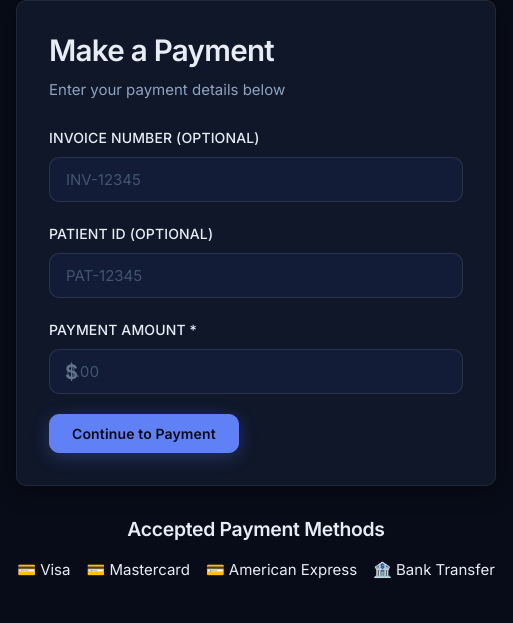
it: PaymentPage › shows validation error for invalid amount
// Type a value to pass HTML5 required/min constraints, then custom validation catches it
Type "1.00" into the number field labelled "Payment Amount *" at (256,372), box [49, 349, 463, 394]
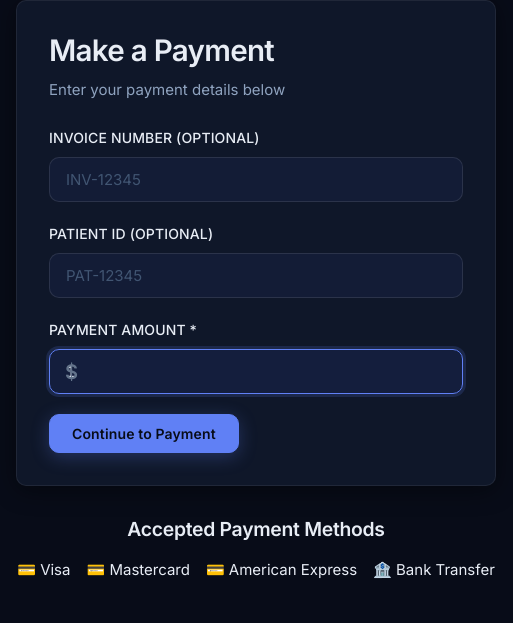
Click the button "Continue to Payment" at (144,434), box [49, 414, 239, 453]
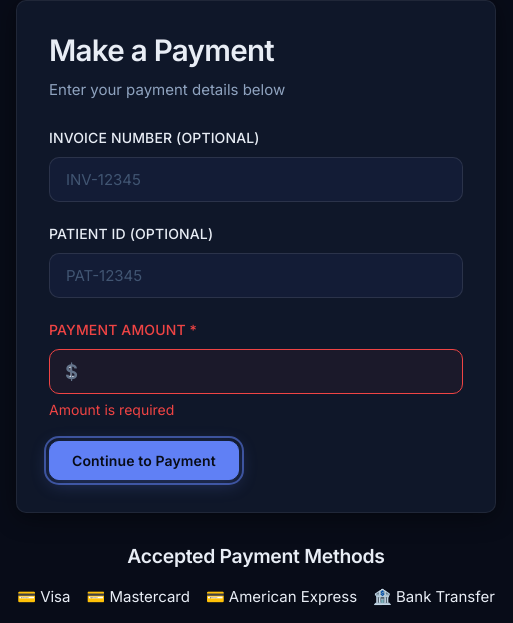
Check: the text "Amount is required" is shown, box [49, 401, 174, 418]
